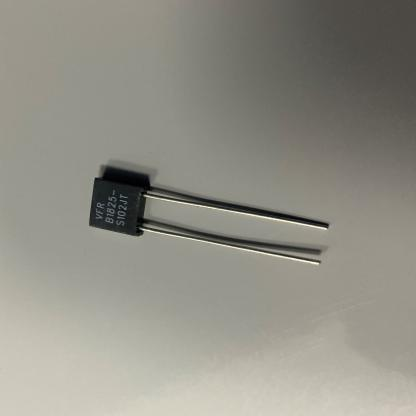SP0000007: (42, 128, 386, 350)
